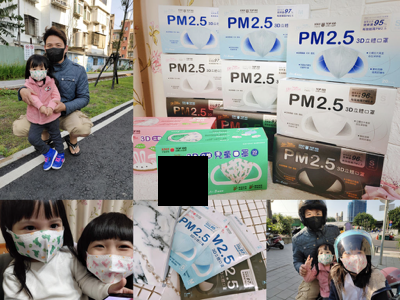with_mask: (11, 217, 65, 263), (84, 239, 134, 285), (340, 251, 369, 275), (45, 41, 65, 63), (304, 210, 325, 230), (29, 66, 47, 82), (317, 249, 333, 266)
